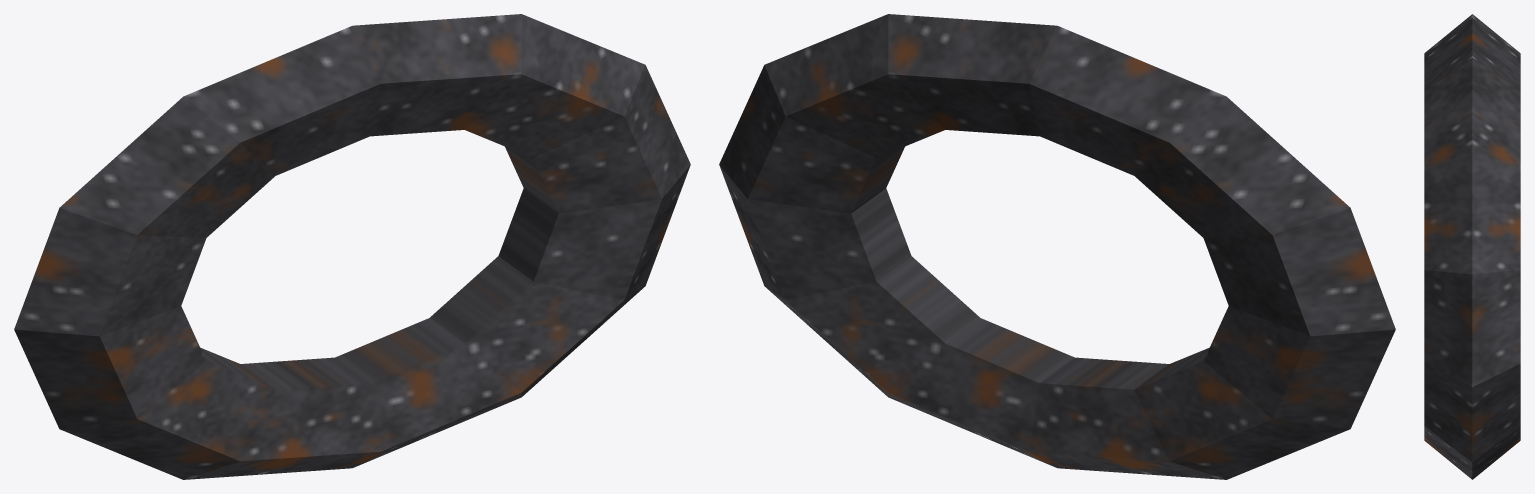
Rendered from elite_chain_link.obj.
The picture shows the model from 3 angles, left to right: view 1: azimuth 30°, elevation 25°; view 2: azimuth 150°, elevation 25°; view 3: azimuth 270°, elevation 25°; orthographic projection. The views are drawn at different scales.
Parts seen in each view (by area): view 1: elite_chain_link; view 2: elite_chain_link; view 3: elite_chain_link.
Boxes of the visible parts, left/top/right/bottom form: elite_chain_link: left=14, top=14, right=690, bottom=479; elite_chain_link: left=719, top=14, right=1395, bottom=479; elite_chain_link: left=1424, top=14, right=1520, bottom=479.
Size of the model in its own units: 0.45 by 0.2812 by 0.0654.
